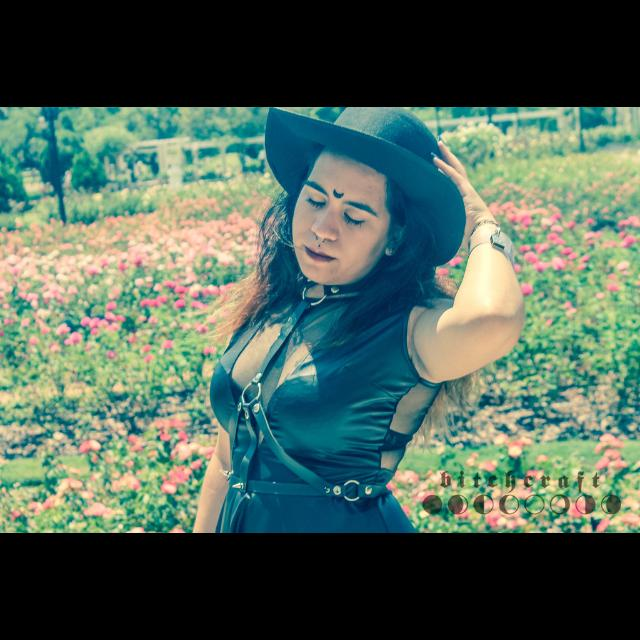Flower: (0, 200, 264, 350), (25, 414, 213, 520), (490, 186, 640, 300), (593, 436, 627, 472), (498, 430, 540, 454)
